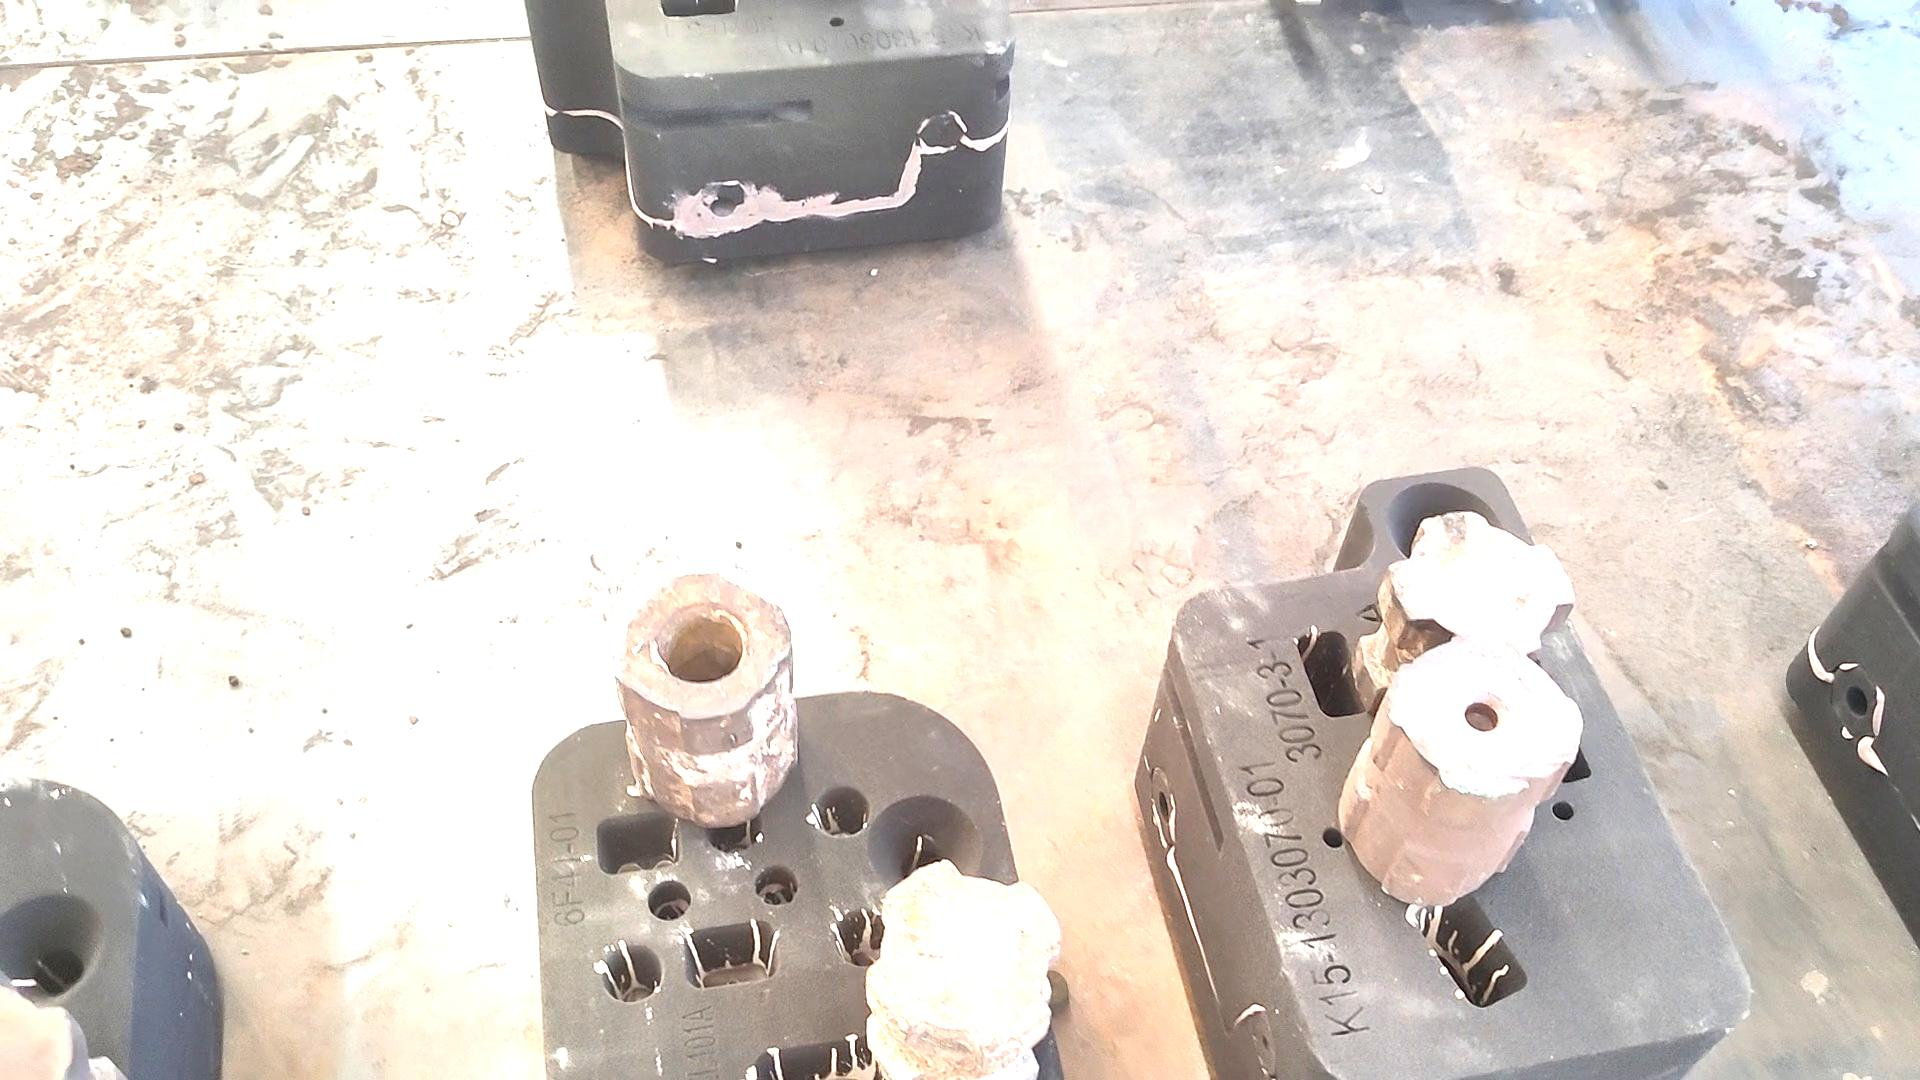pouring hole: (866, 795, 982, 897), (1, 894, 104, 1007), (1389, 483, 1506, 568)
